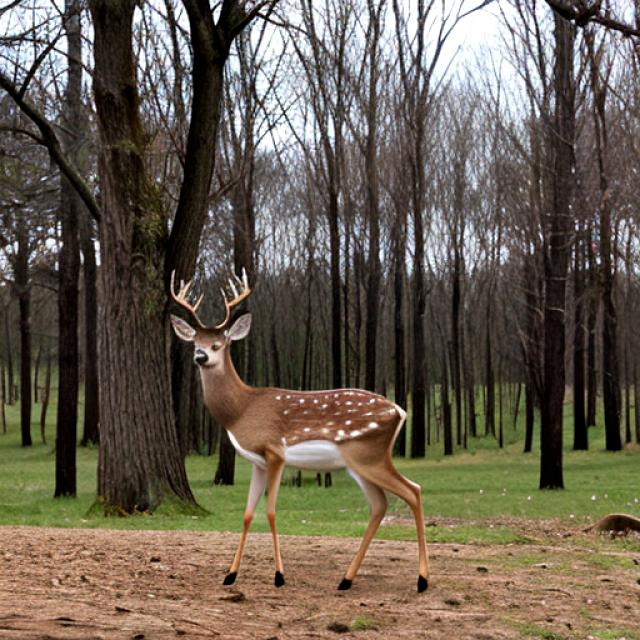deer: (132, 260, 498, 611)
